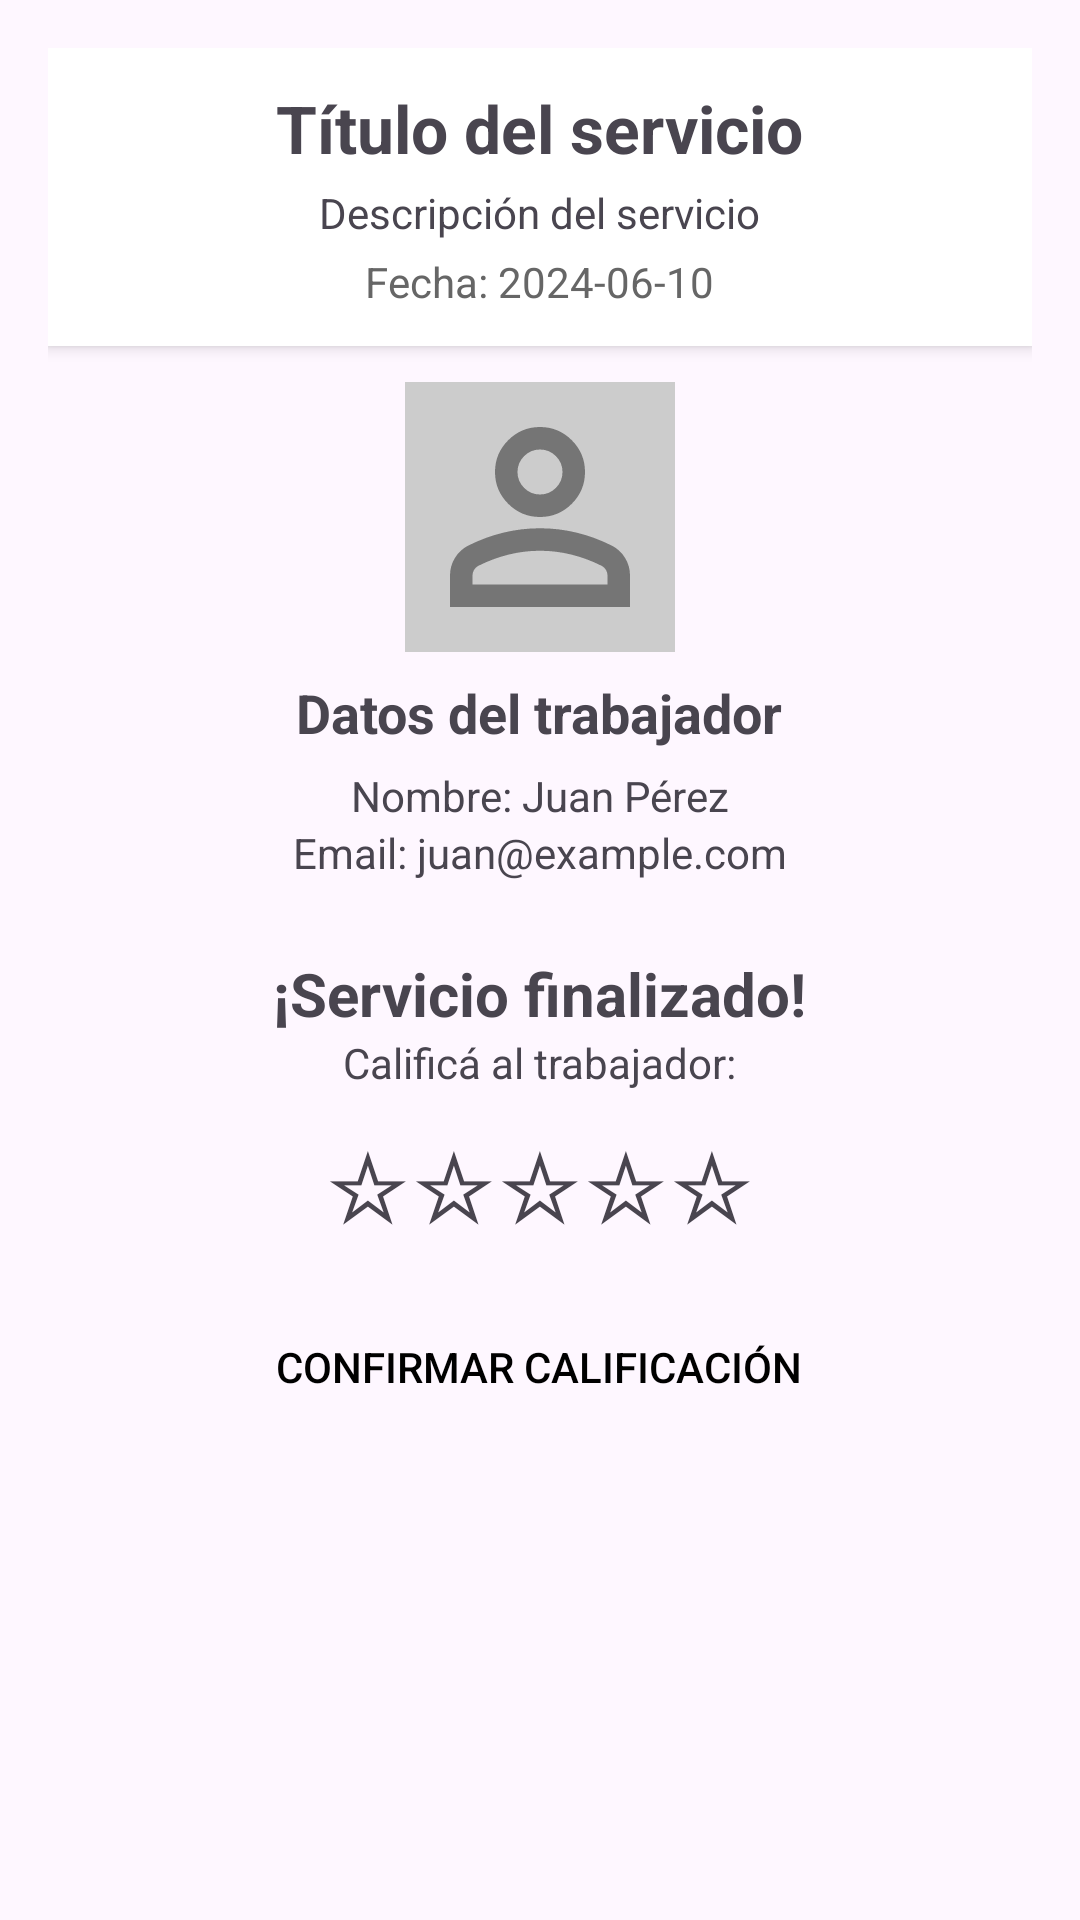

Icons on this 1080px x 1920px Android screen, each with the point to tap as (x,y):
person: (540,517)
